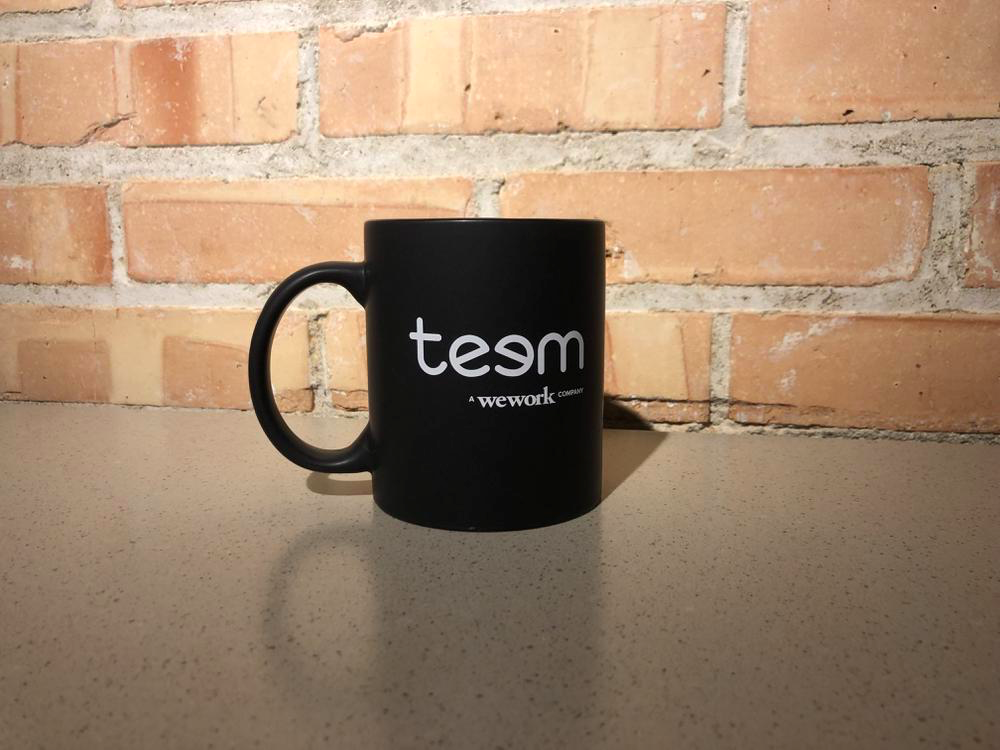wework: (475, 384, 558, 409)
